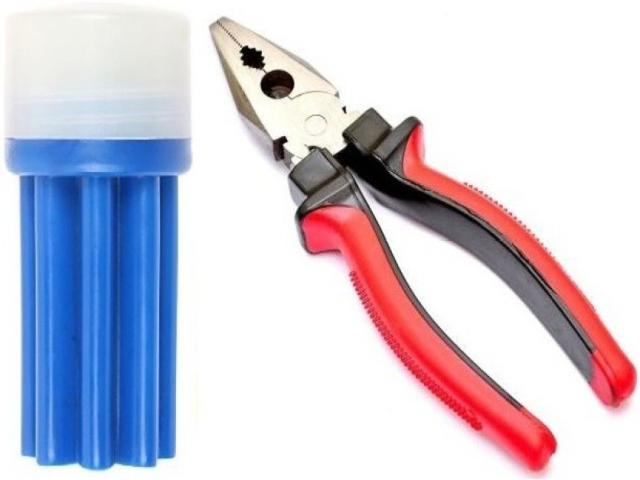Pliers: (211, 17, 636, 470)
